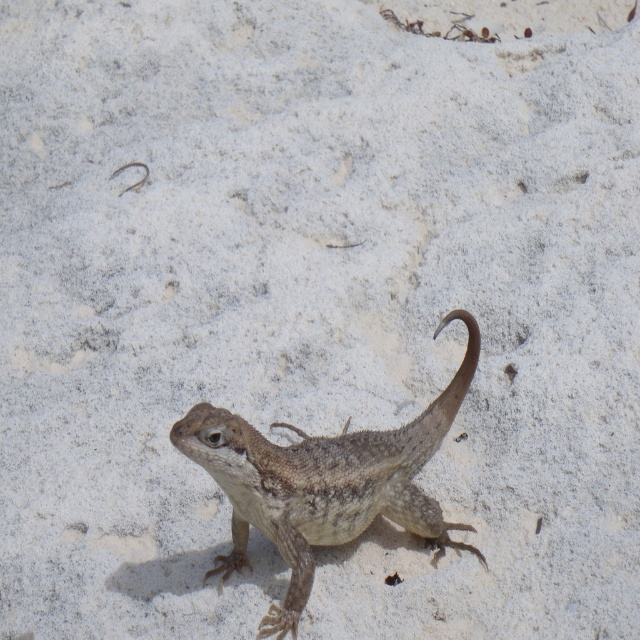Lizard: (171, 305, 489, 639)
